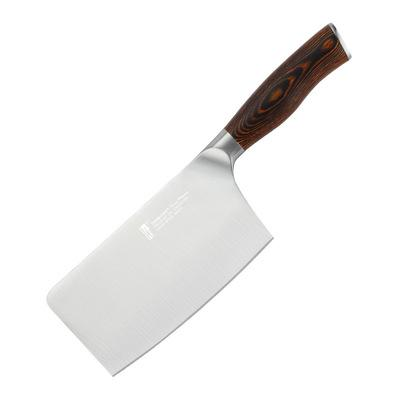knife: (18, 14, 375, 373)
